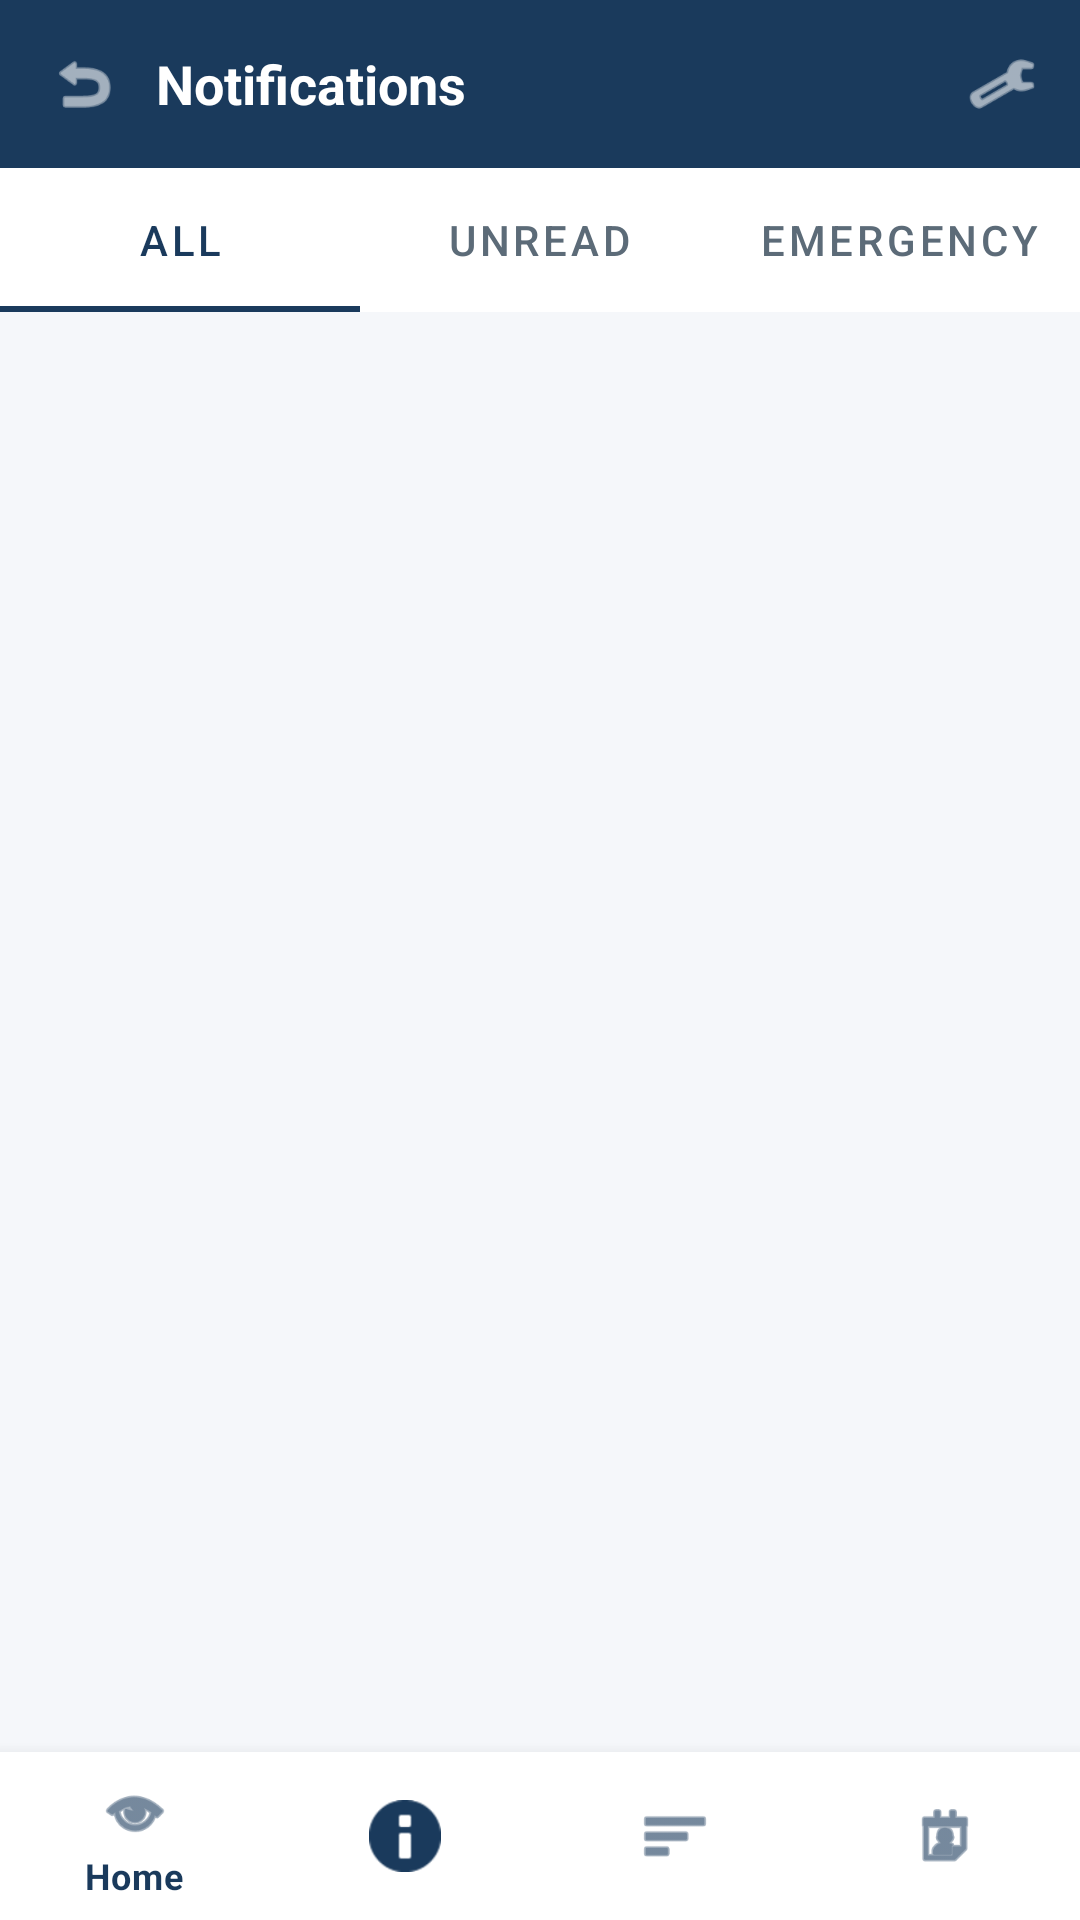

Locate icon controls on the screen. Image size 1080px×1920px, boxes as [x1, y1, x2, y2].
preferences: [969, 59, 1034, 109]
revert: [59, 61, 111, 108]
